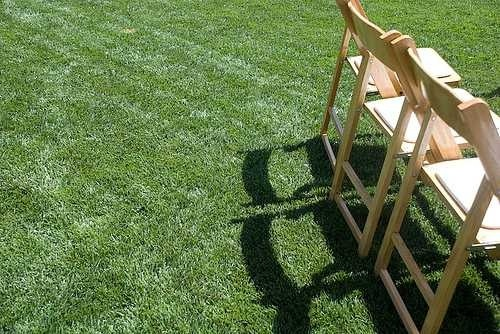obstacle: (321, 0, 499, 333)
